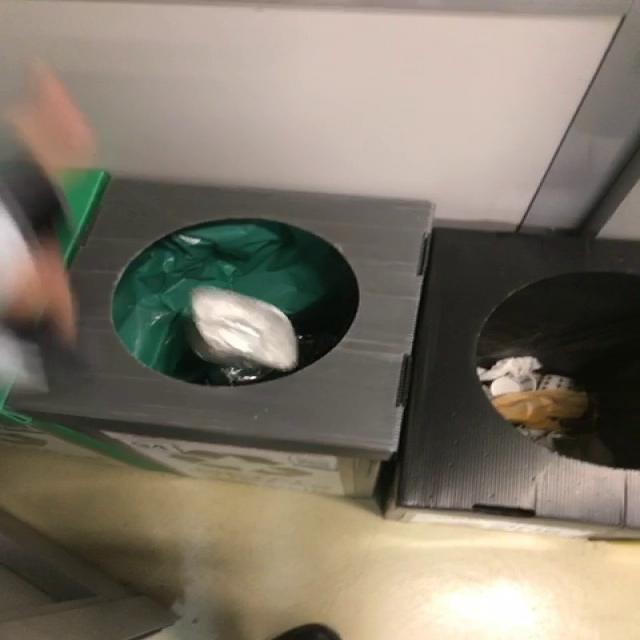bin: (11, 179, 640, 528)
